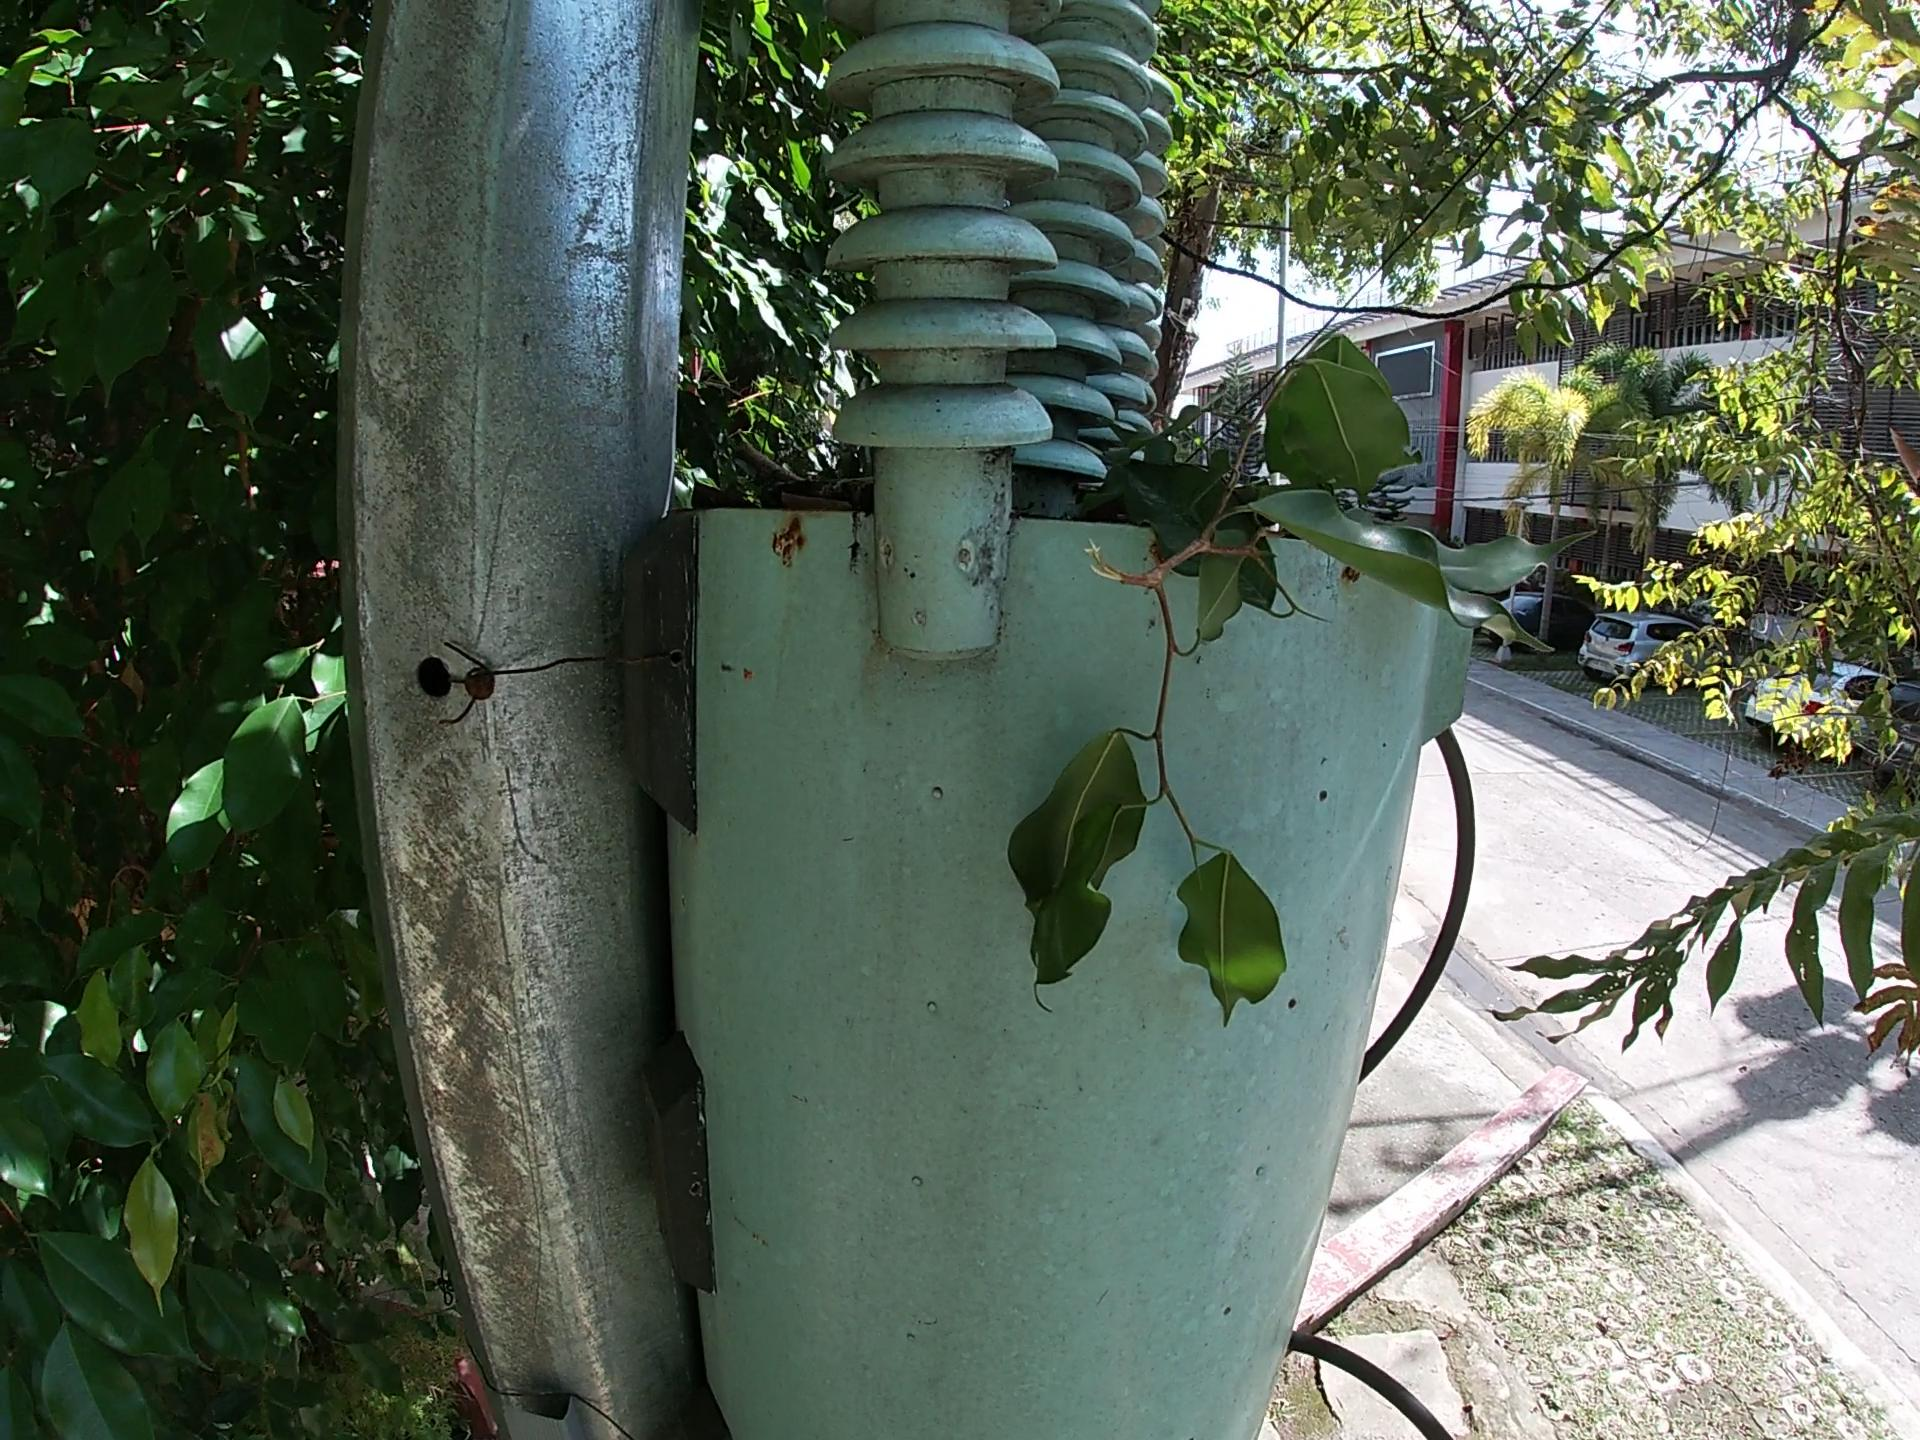branch with leaves: (962, 325, 1615, 1050)
leaf: (689, 476, 759, 514)
tree branch: (717, 424, 822, 496)
